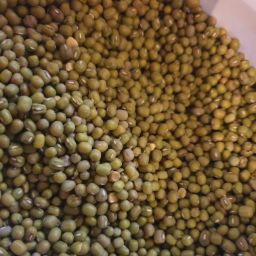Green gram dal(moong): (84, 3, 170, 256), (4, 4, 90, 256), (161, 4, 235, 256), (193, 33, 256, 256)
